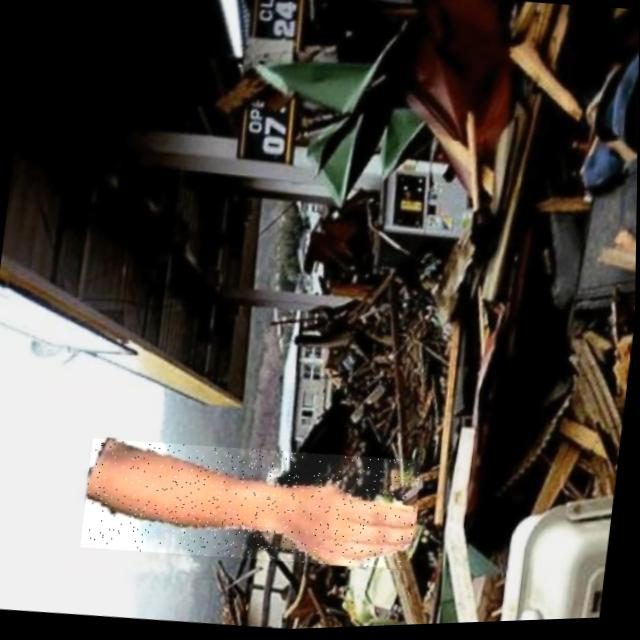Person in Rubble: (81, 428, 423, 581)
